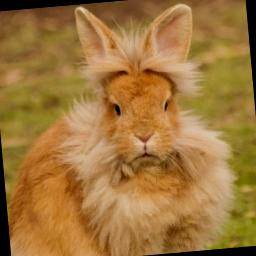rabbit: (9, 4, 234, 256)
